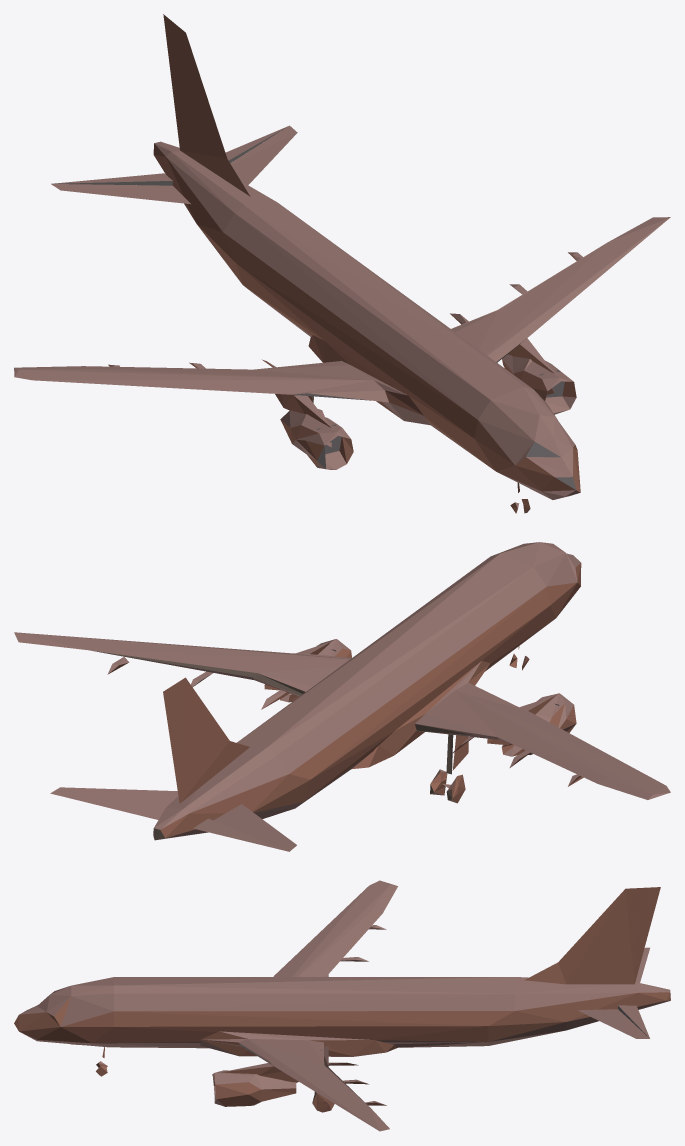
File: a320.far-facades-v2.lod2.glb
3 renders of one model, top to bottom at view 1: azimuth 30°, elevation 25°; view 2: azimuth 150°, elevation 25°; view 3: azimuth 270°, elevation 25°, orthographic. The views are drawn at different scales.
Parts seen in each view (by area): view 1: a320; view 2: a320; view 3: a320.
Part boxes in pixels (x1,y1,x2,y2): a320: (14,14,670,513); a320: (14,542,670,851); a320: (14,880,670,1131).
Bounding box in the file's own units: 33.99 × 12.31 × 37.6.
